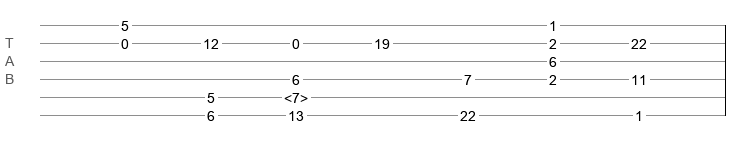0: (121, 36, 129, 46), (292, 36, 300, 46)
1: (549, 18, 557, 28), (635, 108, 643, 118)
11: (631, 72, 647, 82)
12: (203, 36, 219, 46)
13: (288, 108, 304, 118)
19: (374, 36, 390, 46)
2: (549, 72, 557, 82), (549, 36, 557, 46)
22: (460, 108, 476, 118), (631, 36, 647, 46)
5: (121, 18, 129, 28), (207, 90, 215, 100)
6: (207, 108, 215, 118), (292, 72, 300, 82), (549, 54, 557, 64)
7: (464, 72, 472, 82)
harmonic: (284, 90, 308, 100)
